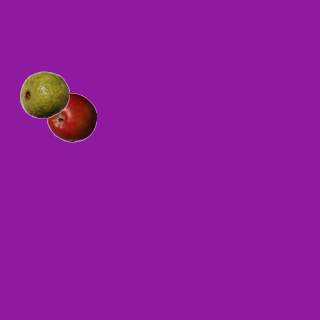Apple Braeburn: (46, 92, 96, 142)
Guava: (19, 69, 69, 119)
